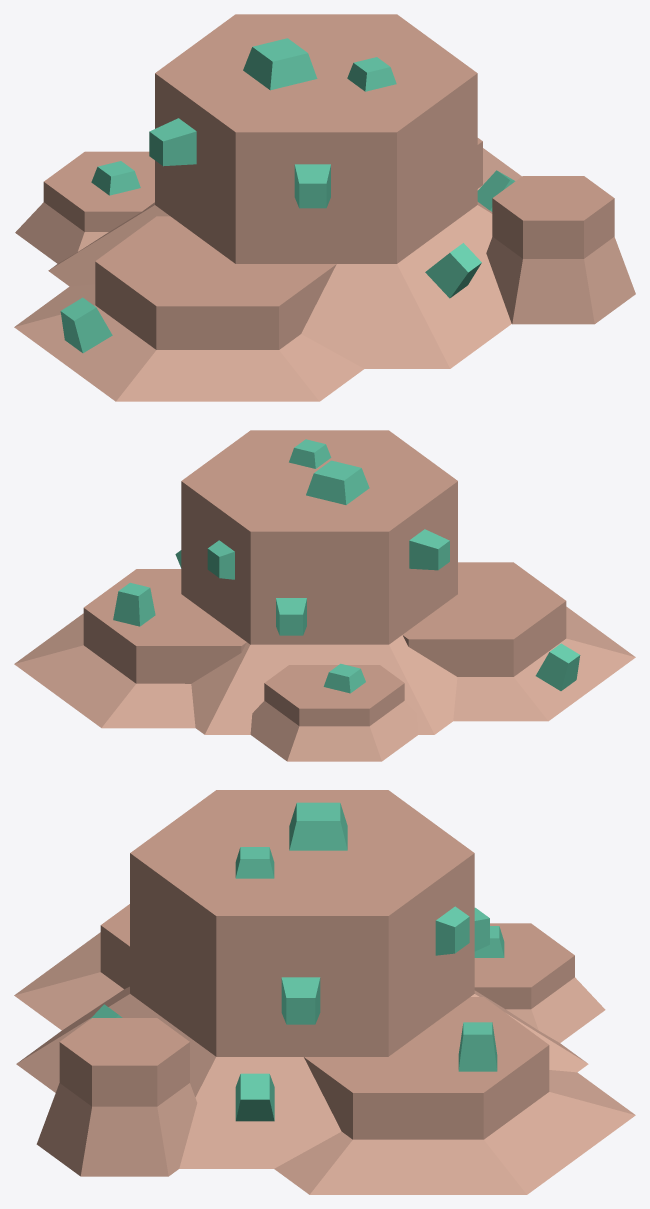
The model's file is rock_crystals.glb.
3 renders of one model, top to bottom at view 1: azimuth 30°, elevation 25°; view 2: azimuth 150°, elevation 25°; view 3: azimuth 270°, elevation 25°, orthographic. The views are drawn at different scales.
Visible parts, largest first — view 1: rock_crystals; view 2: rock_crystals; view 3: rock_crystals.
Boxes of the visible parts, x1,y1,x2,y2 form: rock_crystals: (14,14,635,401); rock_crystals: (14,430,635,761); rock_crystals: (14,790,635,1194).
Size of the model in its own units: 0.8509 by 0.3375 by 0.8015.
